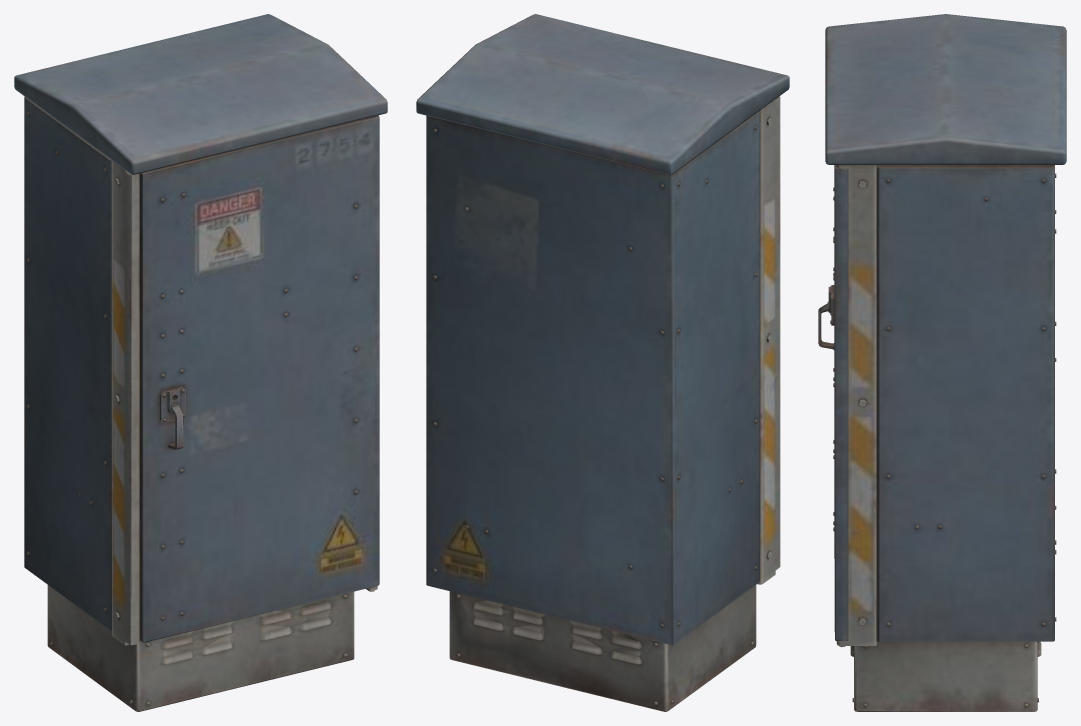
The model's file is utility_box_01.glb.
3 renders of one model, left to right at view 1: azimuth 30°, elevation 25°; view 2: azimuth 150°, elevation 25°; view 3: azimuth 270°, elevation 25°, orthographic.
Visible parts, largest first — view 1: utility_box_01_box; view 2: utility_box_01_box; view 3: utility_box_01_box.
Boxes of the visible parts, x1,y1,x2,y2 form: utility_box_01_box: (14, 14, 387, 711); utility_box_01_box: (416, 14, 789, 711); utility_box_01_box: (818, 14, 1066, 711).
Size of the model in its own units: 0.52 by 1.12 by 0.432.
Materials: 1 (1 with a texture image).
